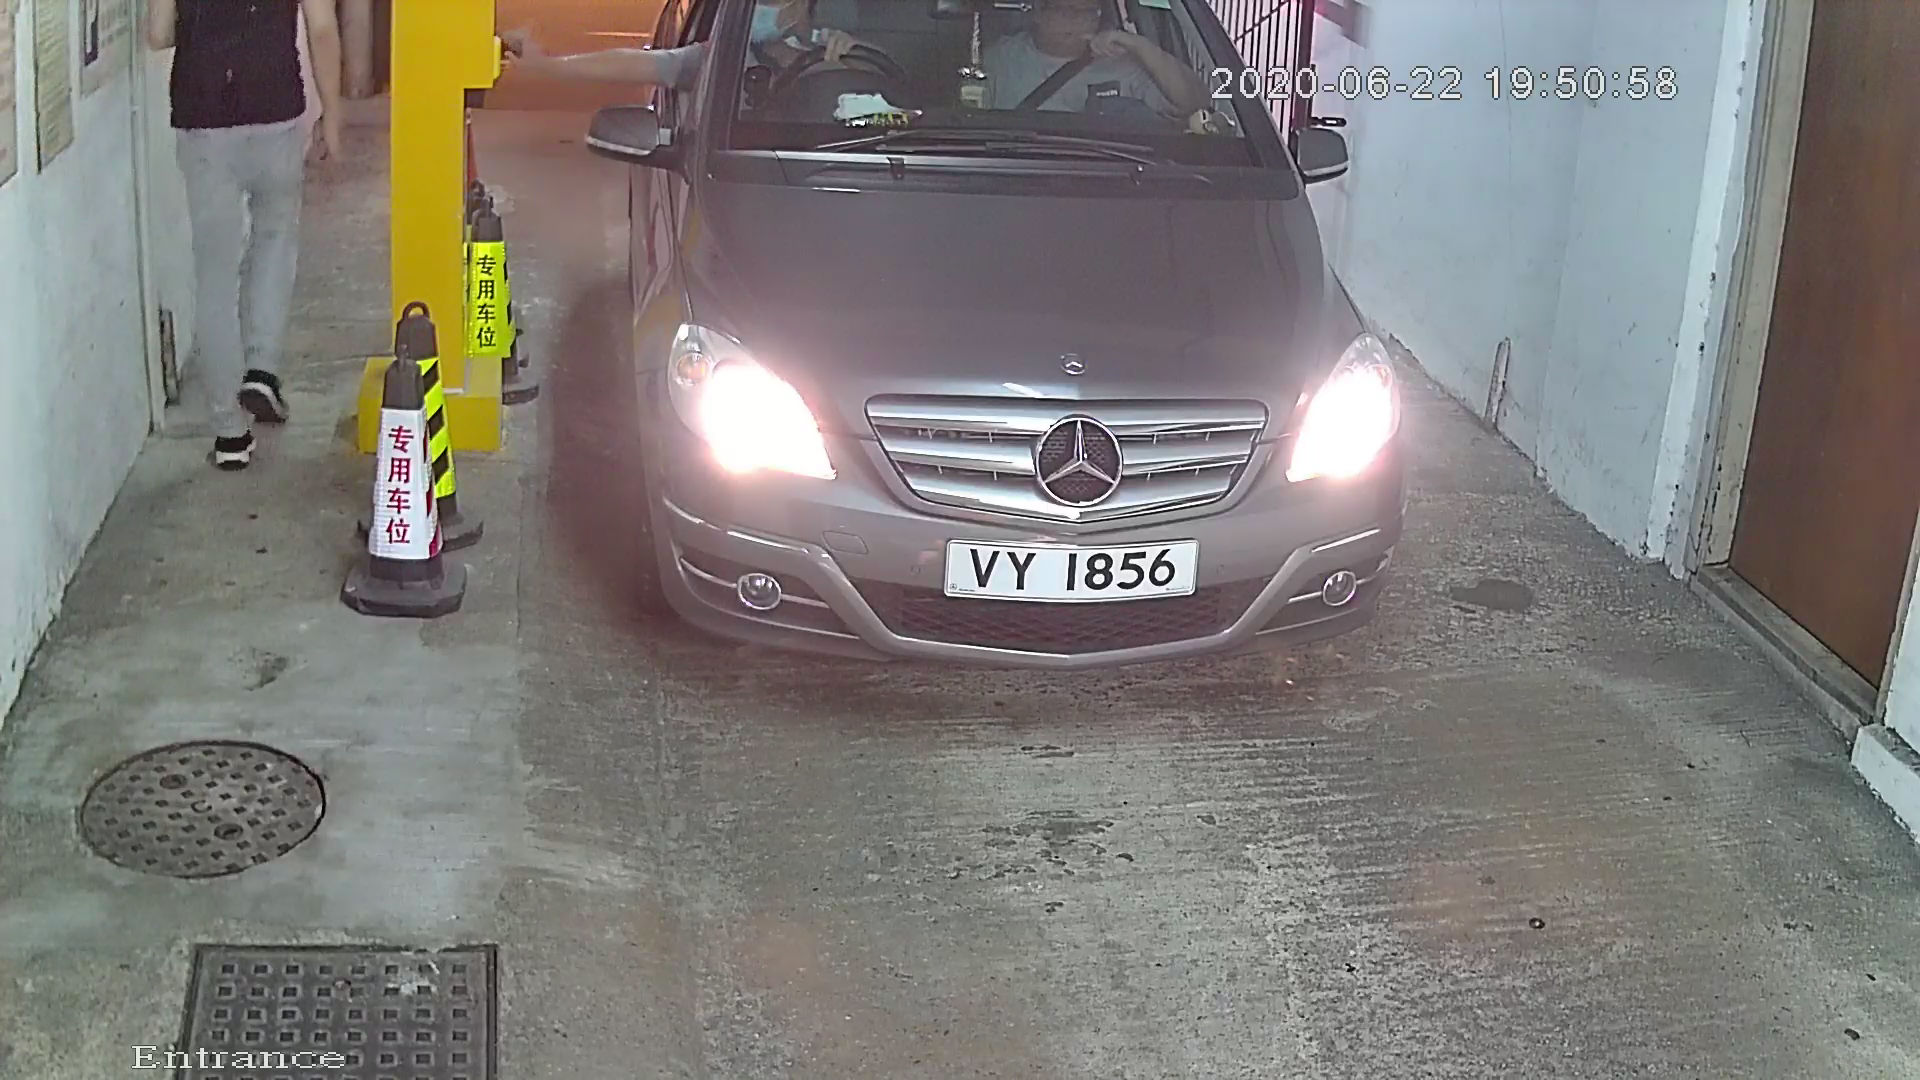privatecar: (535, 3, 1424, 737)
